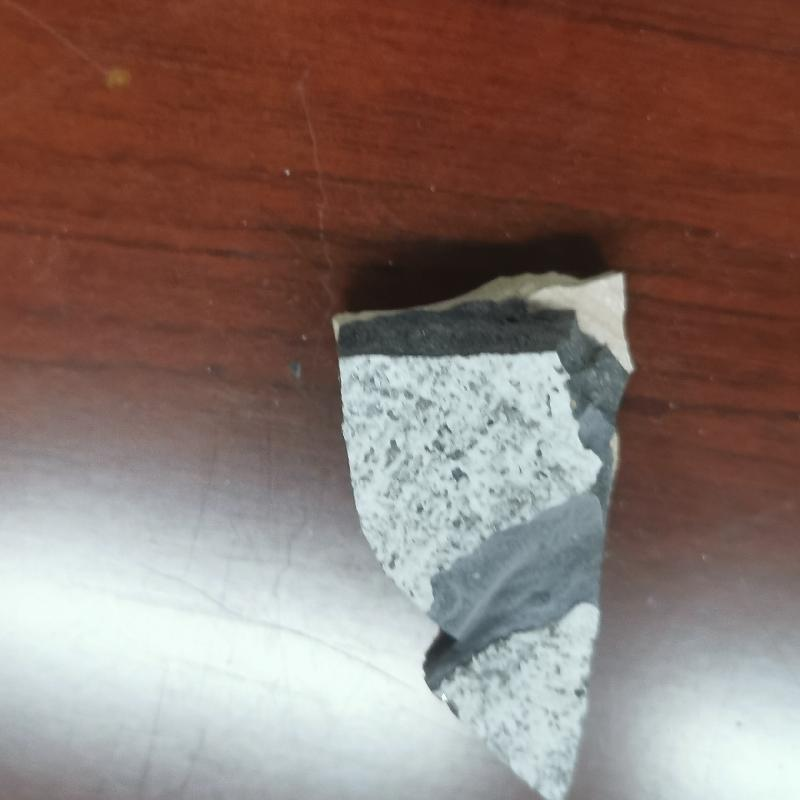tile: (324, 266, 637, 800)
